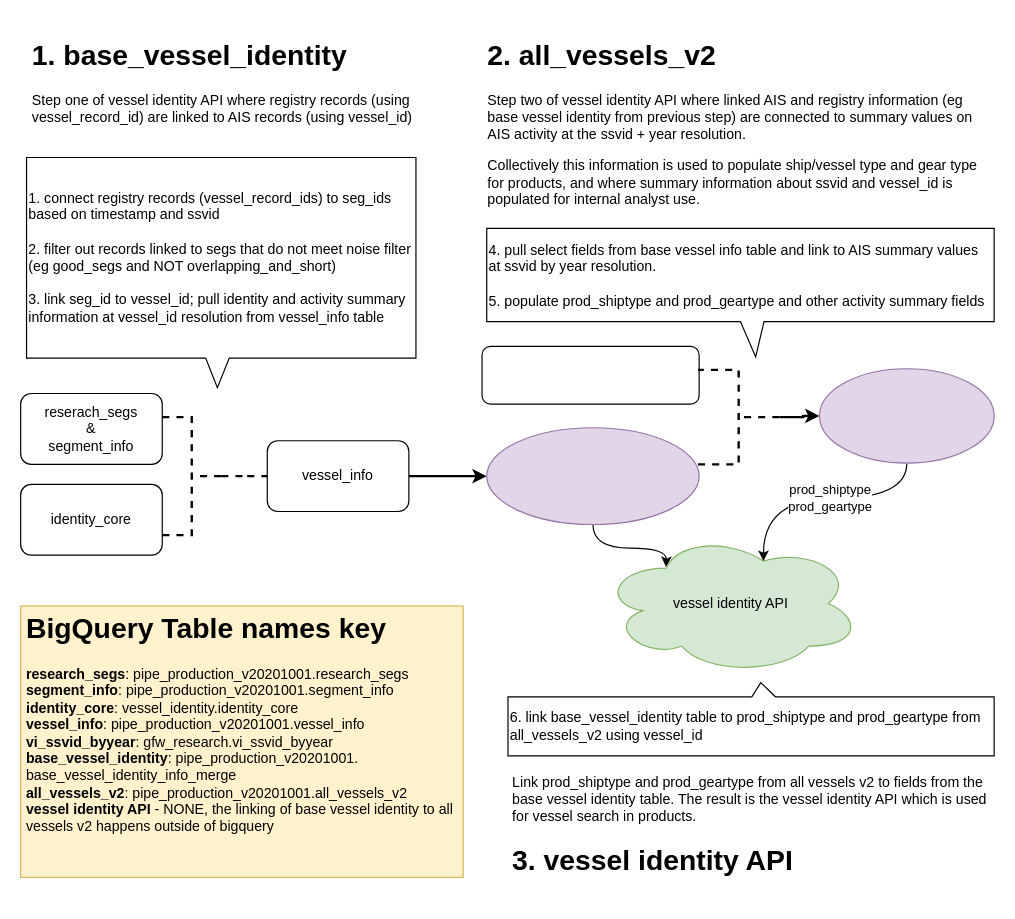
The diagram is 1015 pixels wide and 919 high, and some of its shapes have lost their labels. The shapes that lost their labels are listed below. From the top down, each one's centre as x and y in pixels, then its label:
pixel 590 374: vi_ssvid_byyear
pixel 906 415: all_vessels_v2
pixel 592 476: base_vessel_identity
